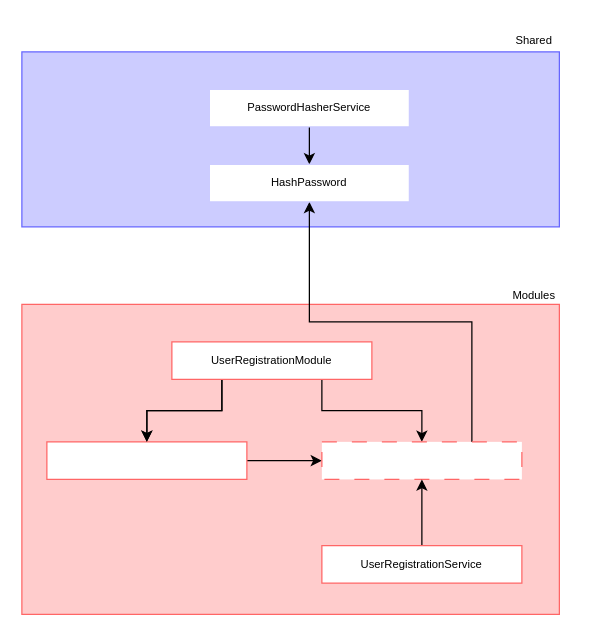
Image size: 594x636. Some labels were removed from this diagram. Here are the shapes that lost their labels. From the top down, the box of each, then its label:
(46, 441, 247, 479): UserRegistrationController
(321, 441, 522, 479): RegisterUser
